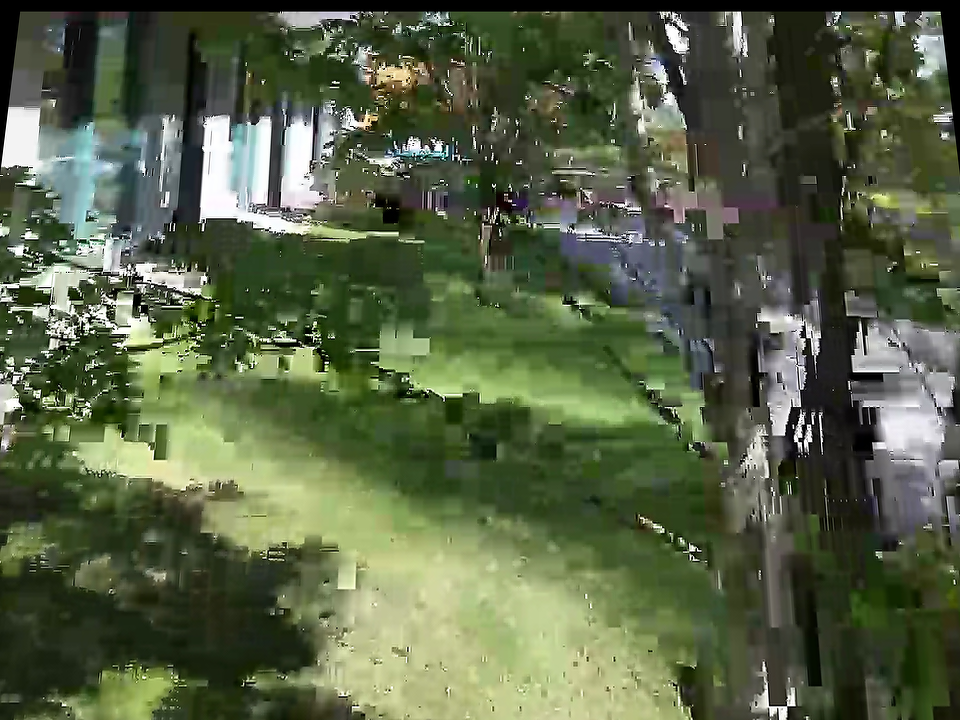branch: (548, 446, 712, 583), (402, 369, 532, 476), (506, 421, 608, 515)
trunk: (676, 55, 883, 708)
